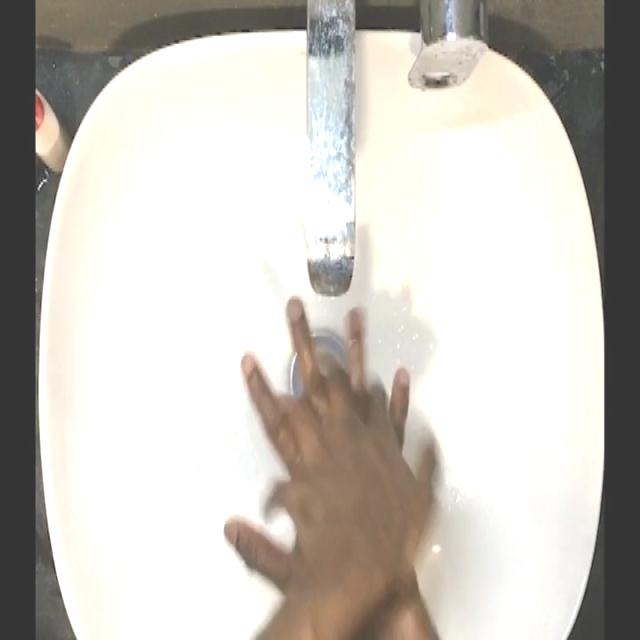step_2: (208, 285, 445, 625)
